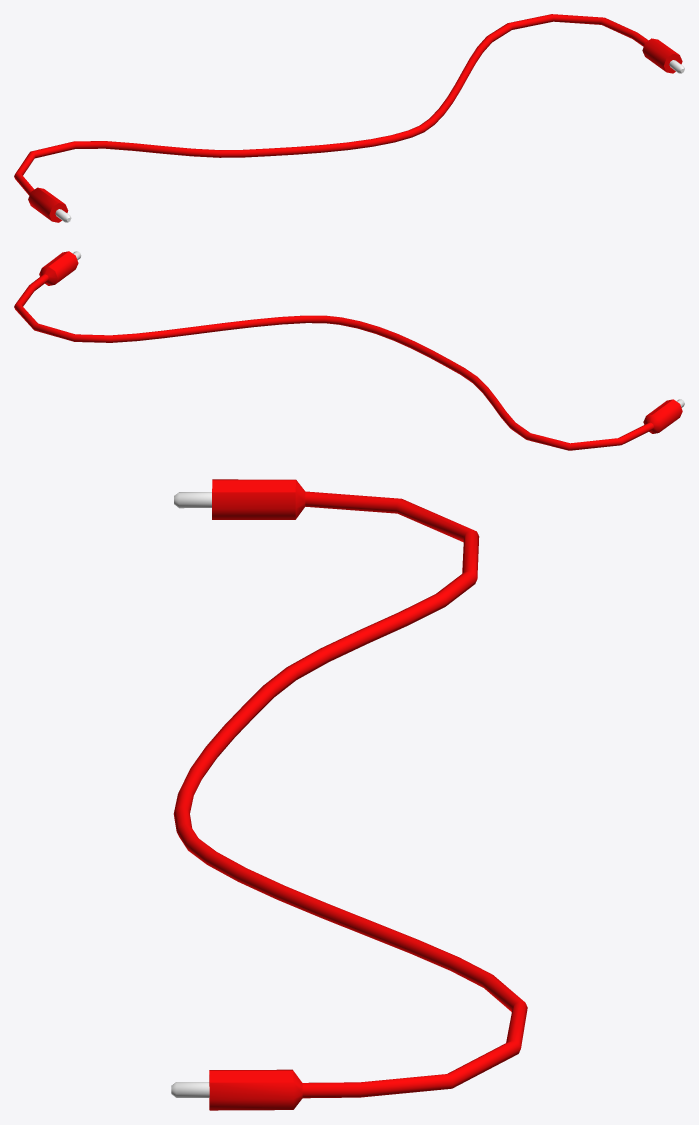
The model's file is ElectroWires09_1.FBX.
3 renders of one model, top to bottom at view 1: azimuth 30°, elevation 25°; view 2: azimuth 150°, elevation 25°; view 3: azimuth 270°, elevation 25°, orthographic. The views are drawn at different scales.
Parts seen in each view (by area): view 1: Wires09; view 2: Wires09; view 3: Wires09.
Part boxes in pixels (box(x1,y1,x2,y2)): Wires09: box(14, 14, 684, 222); Wires09: box(14, 251, 684, 450); Wires09: box(171, 479, 527, 1110).
Bounding box in the file's own units: 92.14 × 2.77 × 22.81.
